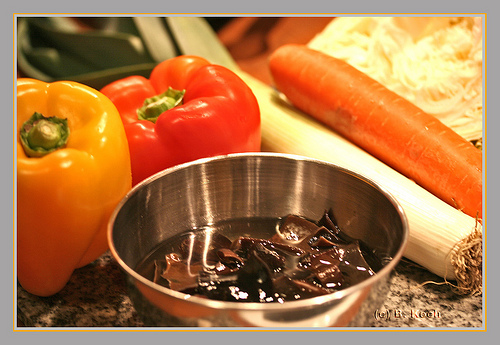capsicum: (13, 74, 133, 299), (98, 54, 263, 184)
